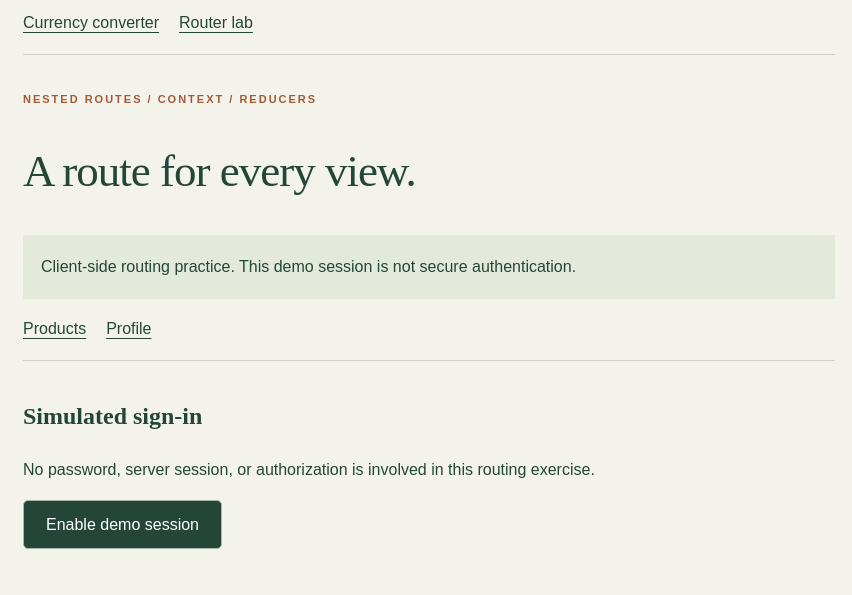
Test: redirects a protected view and makes the simulated session explicit
The width and height of the screenshot is (852, 595).
expect the heading "Simulated sign-in" is shown: met, box x1=23 y1=403 x2=202 y2=429
What coordinates should you click on to do the following:
click the button "Enable demo session"
I would click on:
 (122, 524)
Its box is x1=23 y1=500 x2=222 y2=549.
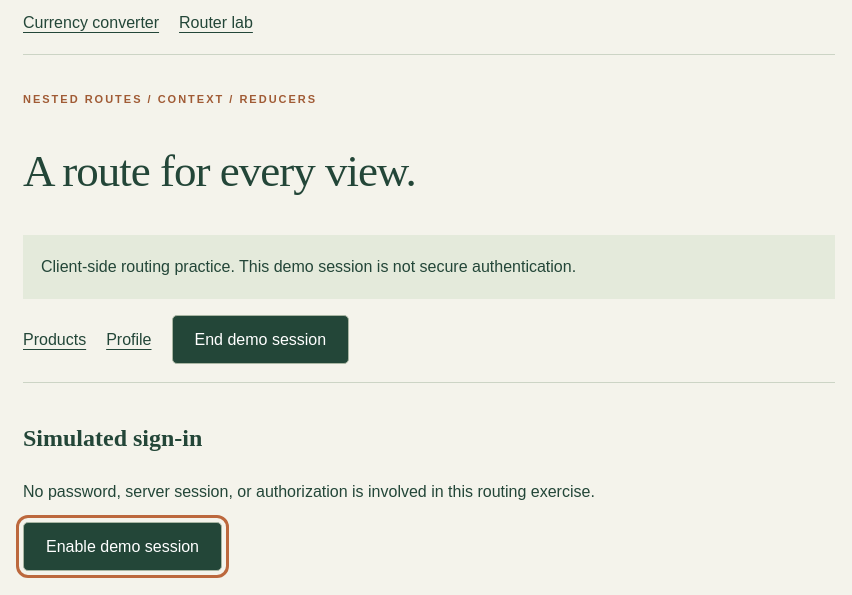
What coordinates should you click on to do the following:
click the link "Profile"
I would click on:
 (129, 339)
Its box is x1=106 y1=326 x2=152 y2=353.
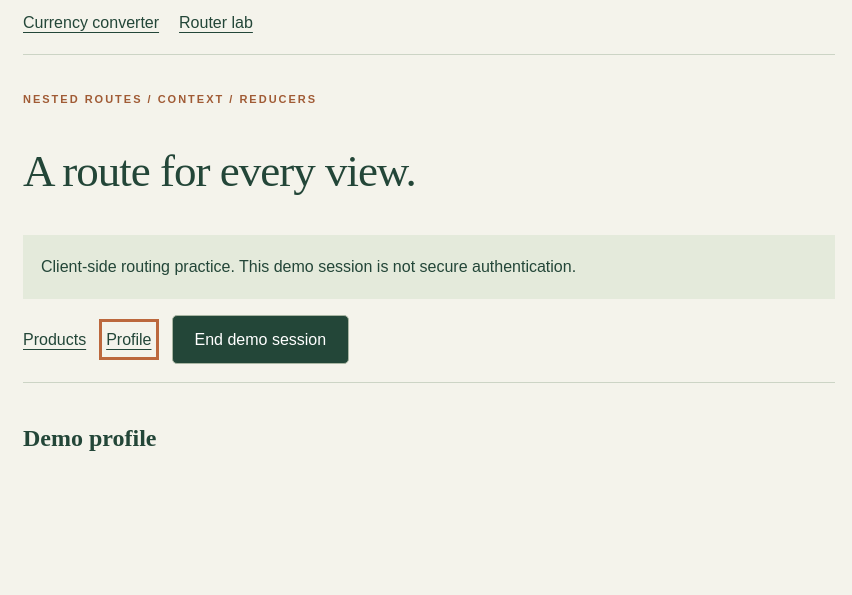
expect the heading "Demo profile" is shown: met, box x1=23 y1=425 x2=156 y2=451
What coordinates should you click on to do the following:
click the button "End demo session"
I would click on:
 (260, 339)
Its box is x1=172 y1=314 x2=349 y2=364.
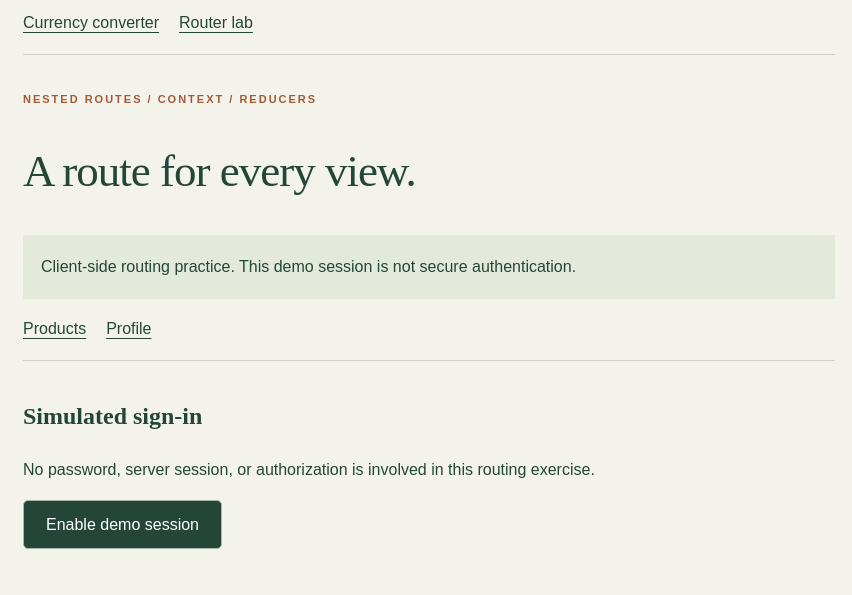
expect the heading "Simulated sign-in" is shown: met, box x1=23 y1=403 x2=202 y2=429
